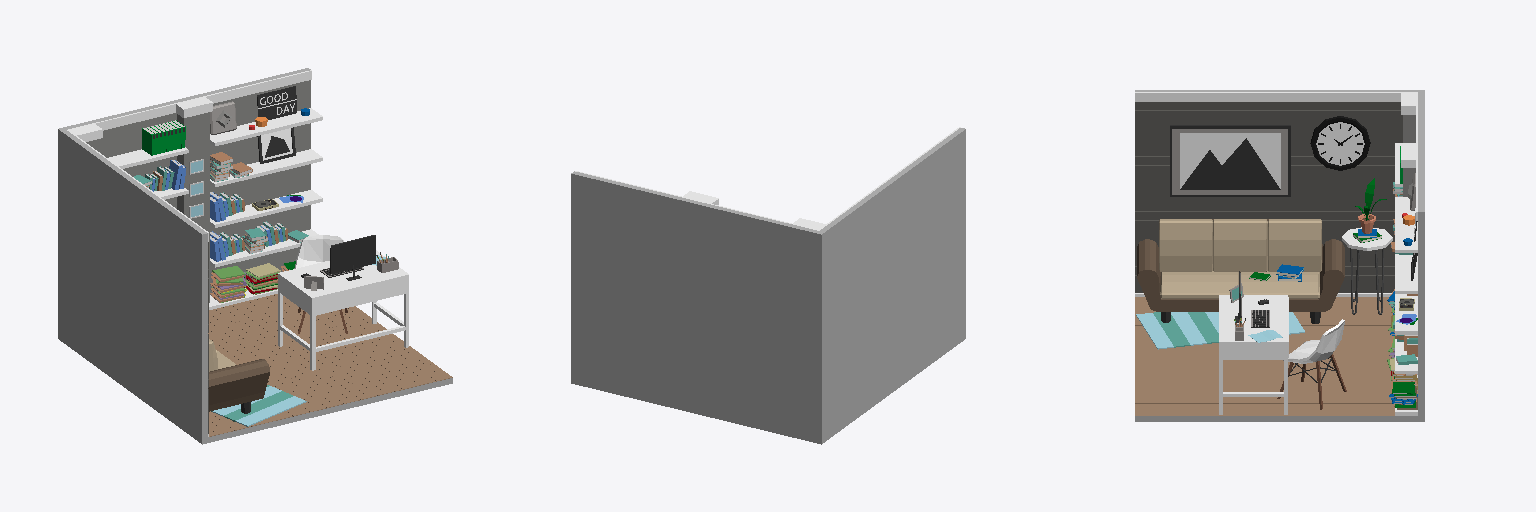
3 renders of one model, left to right at view 1: azimuth 30°, elevation 25°; view 2: azimuth 150°, elevation 25°; view 3: azimuth 270°, elevation 25°, orthographic.
Parts seen in each view (by area): view 1: LP_Officeroom2 Office2_base, LP_Officeroom2 Office2_parquet1, LP_Officeroom2 Office2_table, LP_Officeroom2 Office2_shelves, LP_Officeroom2 Office2_sofa, LP_Officeroom2 Office2_carpet, LP_Officeroom2 Office2_monitor1, LP_Officeroom2 Office2_Books5, LP_Officeroom2 Office2_chair, LP_Officeroom2 Office2_magazines1, LP_Officeroom2 Office2_Photoframe_4, Office2_decoration1 LP_Officeroom2 (+7 smaller); view 2: LP_Officeroom2 Office2_base; view 3: LP_Officeroom2 Office2_parquet2, LP_Officeroom2 Office2_parquet1, LP_Officeroom2 Office2_sofa, LP_Officeroom2 Office2_base, LP_Officeroom2 Office2_picture, LP_Officeroom2 Office2_table, LP_Officeroom2 Office2_shelves, LP_Officeroom2 Office2_carpet, LP_Officeroom2 Office2_clock_1, LP_Officeroom2 Office2_chair, LP_Officeroom2 Office2_little_table, LP_Officeroom2 Office2_magazines3 (+1 smaller).
Boxes of the visible parts, box(x1,y1,x2,y2) form: LP_Officeroom2 Office2_base: box(58, 68, 452, 444); LP_Officeroom2 Office2_parquet1: box(208, 294, 452, 436); LP_Officeroom2 Office2_table: box(278, 250, 408, 370); LP_Officeroom2 Office2_shelves: box(108, 108, 322, 309); LP_Officeroom2 Office2_sofa: box(208, 339, 269, 413); LP_Officeroom2 Office2_carpet: box(211, 385, 306, 426); LP_Officeroom2 Office2_monitor1: box(330, 235, 375, 280); LP_Officeroom2 Office2_Books5: box(142, 120, 185, 155); LP_Officeroom2 Office2_chair: box(294, 235, 347, 333); LP_Officeroom2 Office2_magazines1: box(210, 266, 246, 302); LP_Officeroom2 Office2_Photoframe_4: box(257, 127, 295, 163); Office2_decoration1 LP_Officeroom2: box(257, 86, 296, 119); LP_Officeroom2 Office2_base: box(571, 127, 965, 444); LP_Officeroom2 Office2_parquet2: box(1135, 102, 1402, 292); LP_Officeroom2 Office2_parquet1: box(1135, 297, 1394, 415); LP_Officeroom2 Office2_sofa: box(1137, 219, 1344, 323); LP_Officeroom2 Office2_base: box(1135, 90, 1424, 421); LP_Officeroom2 Office2_picture: box(1170, 125, 1290, 196); LP_Officeroom2 Office2_table: box(1219, 295, 1288, 414); LP_Officeroom2 Office2_shelves: box(1395, 143, 1417, 415); LP_Officeroom2 Office2_carpet: box(1136, 312, 1304, 349); LP_Officeroom2 Office2_clock_1: box(1310, 116, 1370, 170); LP_Officeroom2 Office2_chair: box(1277, 319, 1346, 409); LP_Officeroom2 Office2_little_table: box(1342, 227, 1392, 314); LP_Officeroom2 Office2_magazines3: box(1389, 381, 1417, 409).
Size of the model in its own units: 503 by 401 by 500.
Materials: 1 (1 with a texture image).